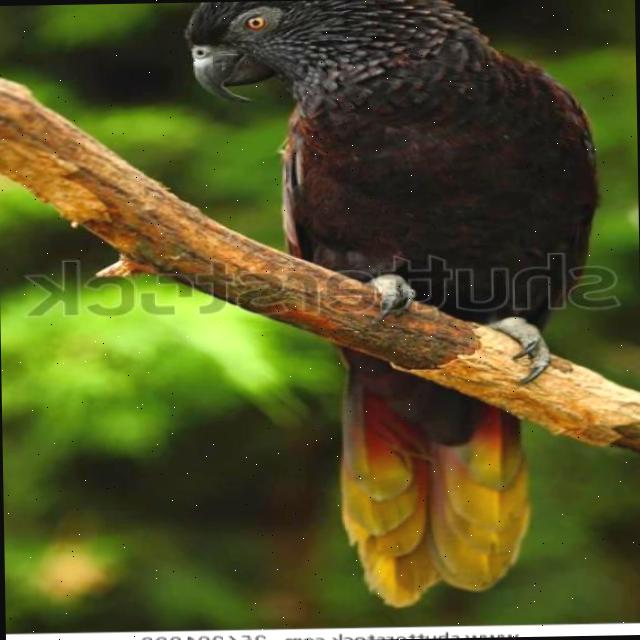Nuri Hitam: (176, 0, 605, 618)
